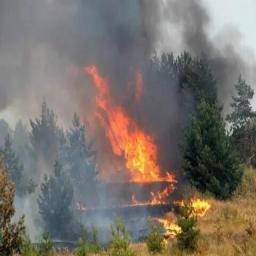Heavy smoke: (3, 4, 155, 77)
Low smoke: (3, 80, 83, 239)
Medium fire: (85, 67, 215, 216)
